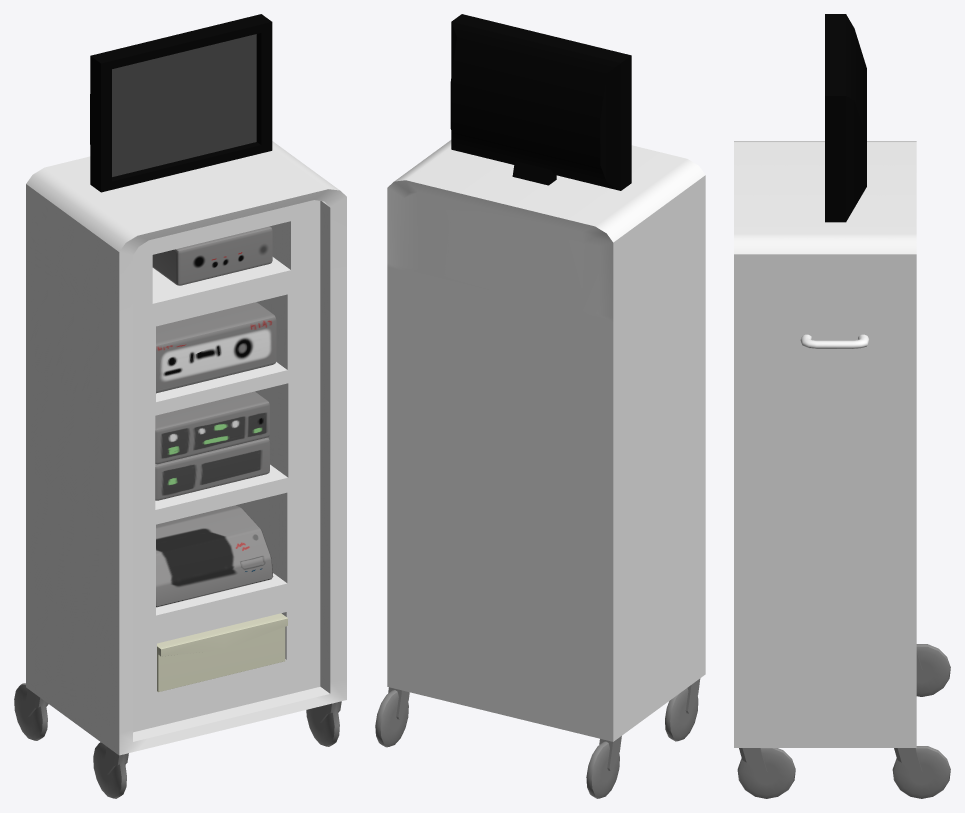
Rendered from maquina_laparoscopia.fbx.
3 renders of one model, left to right at view 1: azimuth 30°, elevation 25°; view 2: azimuth 150°, elevation 25°; view 3: azimuth 270°, elevation 25°, orthographic.
Visible parts, largest first — view 1: pCube1, pCube2, pCube7, pCube4, pCube8, pCube6, pCube3, pCube5, polySurface4, polySurface7, polySurface5; view 2: pCube1, pCube2, polySurface7, polySurface6, polySurface4, pCube9; view 3: pCube1, pCube2, polySurface6, polySurface5, polySurface7, pCylinder1.
Part boxes in pixels (x1,y1,x2,y2): pCube1: (26,141,346,755); pCube2: (90,14,272,192); pCube7: (156,505,273,607); pCube4: (156,302,276,393); pCube8: (157,613,287,692); pCube6: (155,391,269,464); pCube3: (152,226,272,285); pCube5: (155,437,269,500); polySurface4: (93,742,128,798); polySurface7: (14,683,48,740); polySurface5: (306,701,341,746); pCube1: (387,140,705,741); pCube2: (450,14,631,190); polySurface7: (586,736,621,798); polySurface6: (375,687,409,747); polySurface4: (665,678,700,741); pCube9: (512,161,556,185); pCube1: (734,141,916,747); pCube2: (825,14,866,222); polySurface6: (892,746,950,798); polySurface5: (737,748,795,798); polySurface7: (916,644,950,696); pCylinder1: (800,334,869,348).
Bounding box in the file's own units: 10.61 × 29.07 × 8.25.
